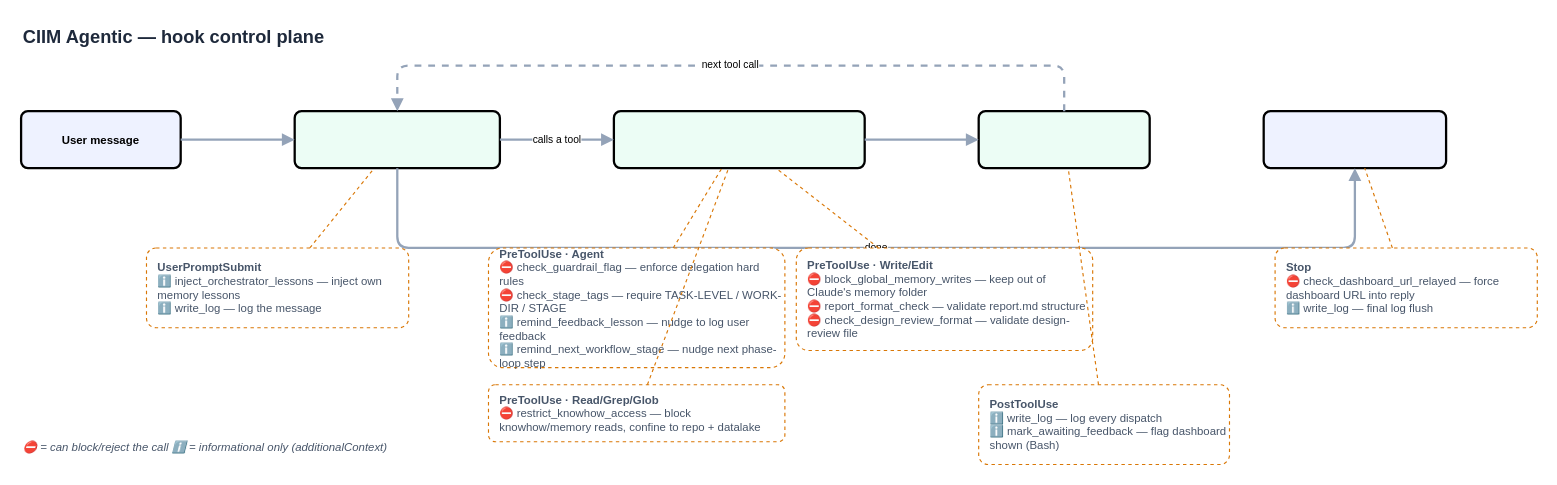
This 1557x485 diagram has some shape labels left out. The centre of each missing label's shape, as x and y in pixels:
Orchestrator turn thinks, decides next tool: (x=396, y=139)
Response shown to user: (x=1354, y=139)
Tool call Agent / Write / Edit / Read·Grep·Glob / Bash: (x=738, y=139)
Tool executes: (x=1063, y=139)
